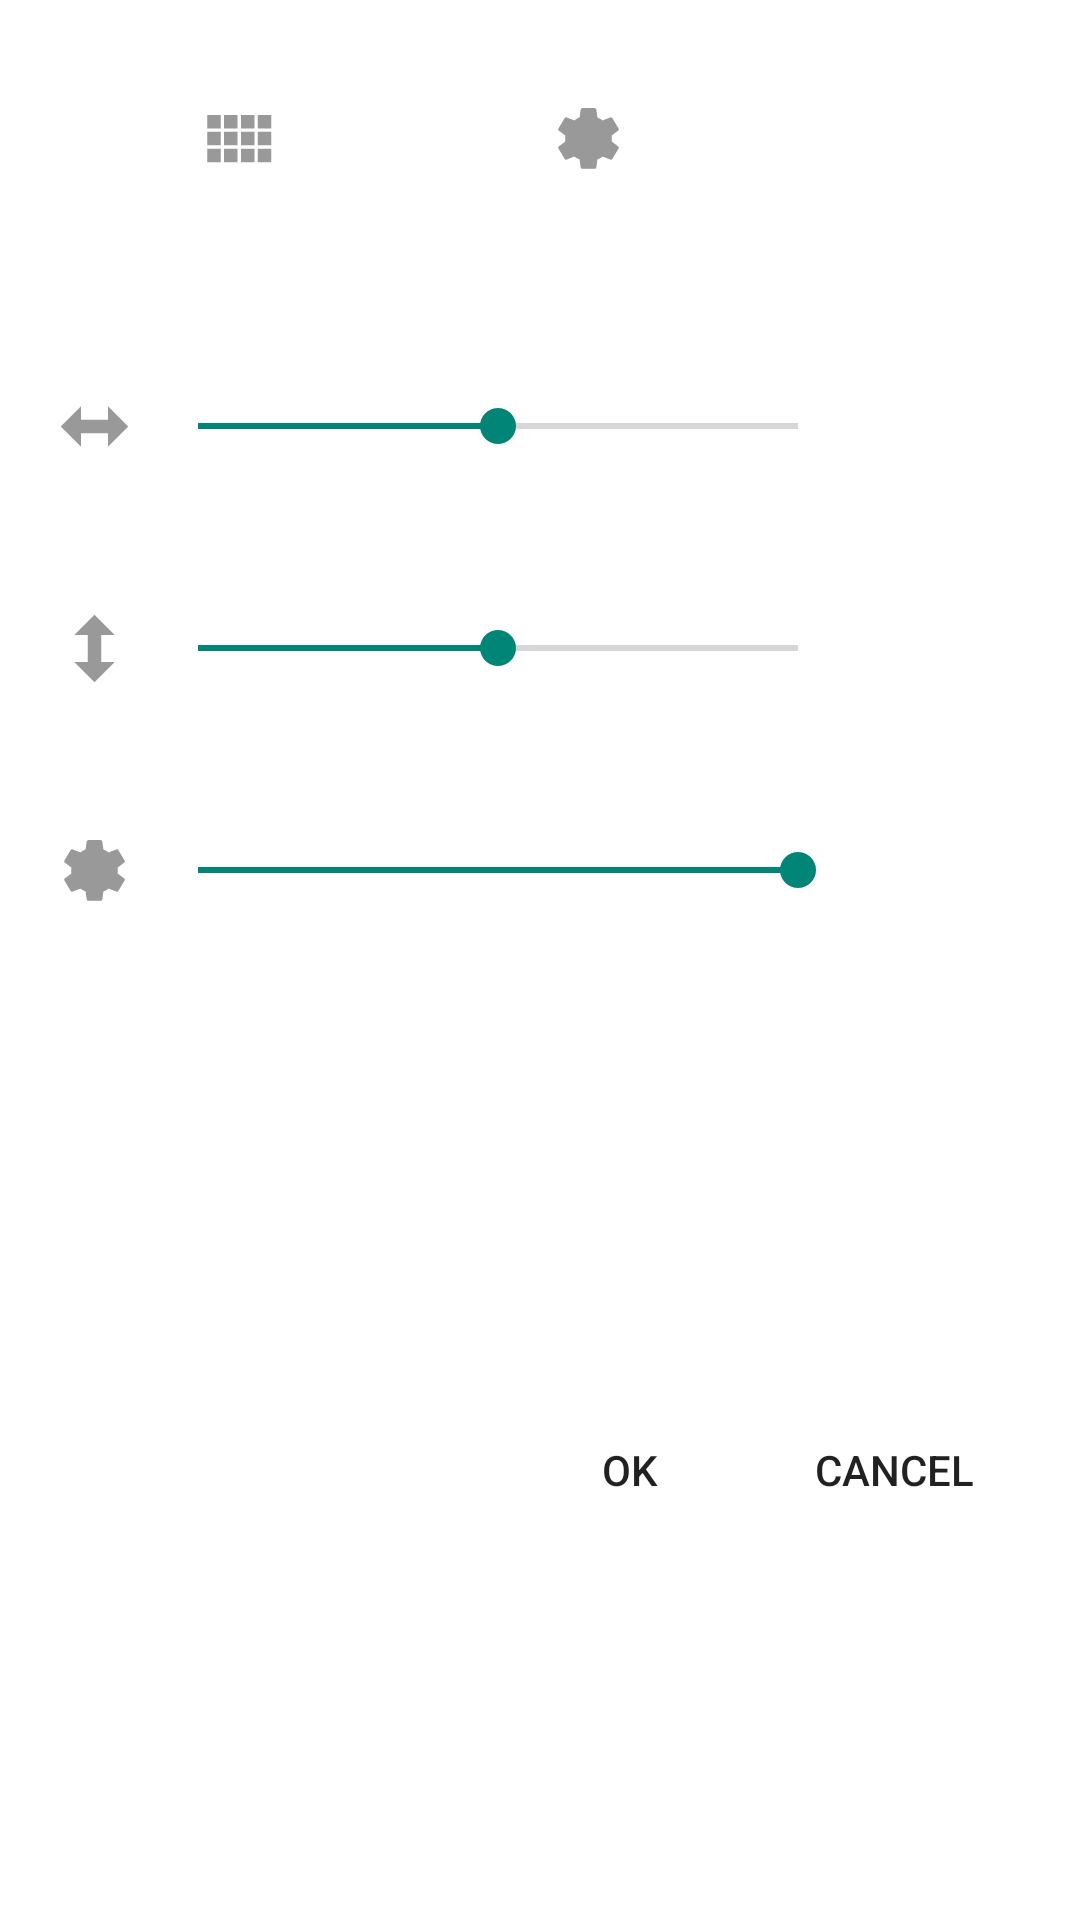

Named icons in this screenshot (1080×1920) and their bounding boxes, (x1, y1, x2, y2):
array up down larger: (74, 615, 115, 682)
grid: (207, 115, 272, 163)
left right larger: (61, 406, 128, 447)
